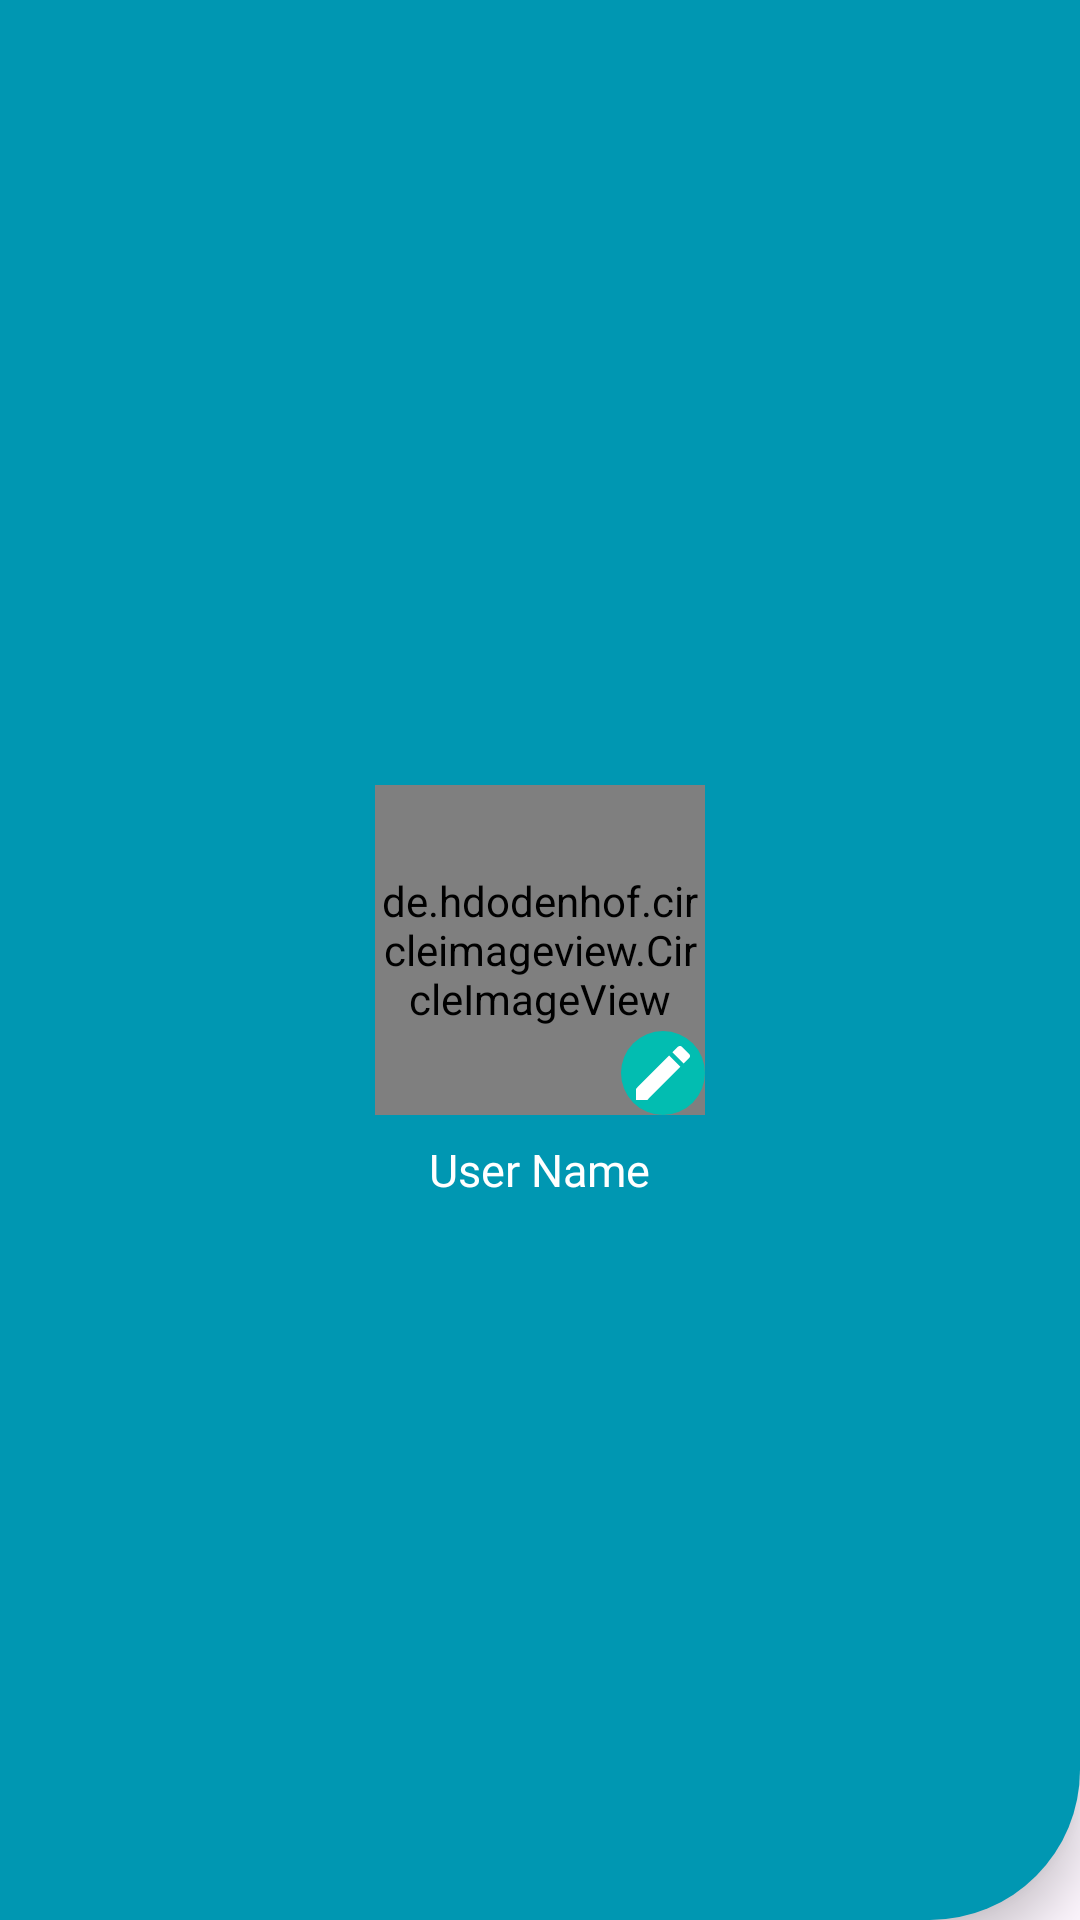

Named icons in this screenshot (1080px x 1920px) and their centers, [x,y]:
Edit Profile Photo: [663,1073]
